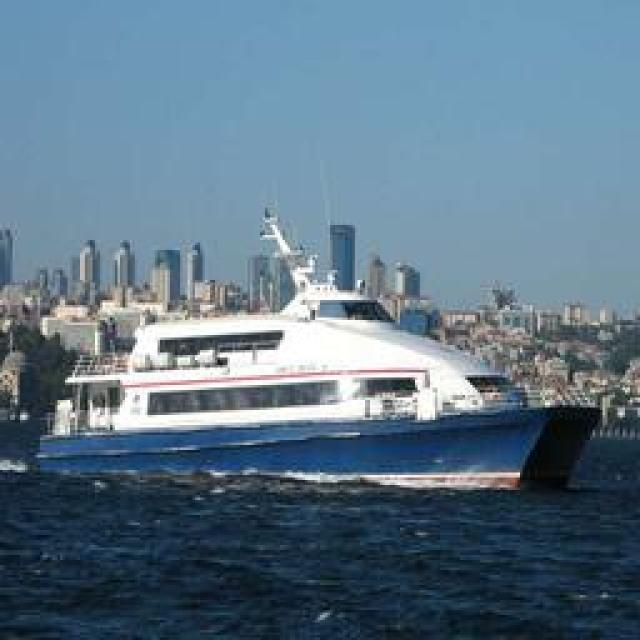ship2: (38, 206, 603, 491)
